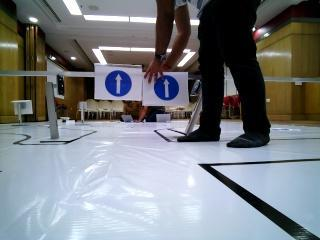straight: (145, 71, 190, 107), (93, 62, 140, 96)
